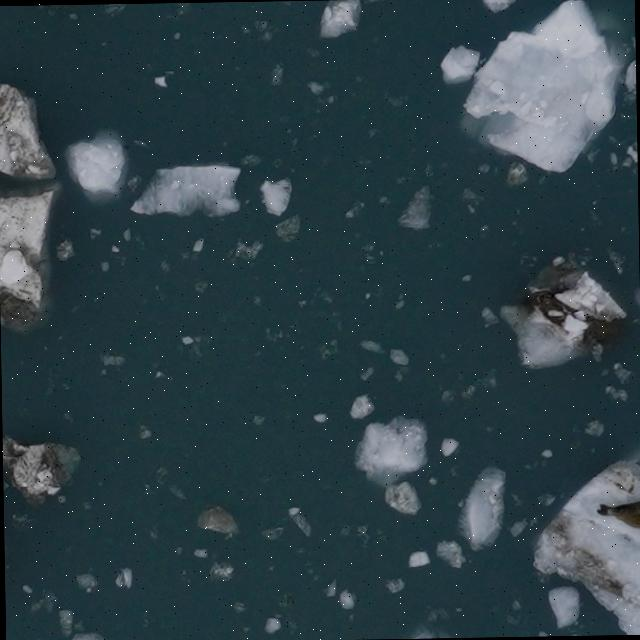seal: (594, 495, 640, 533)
